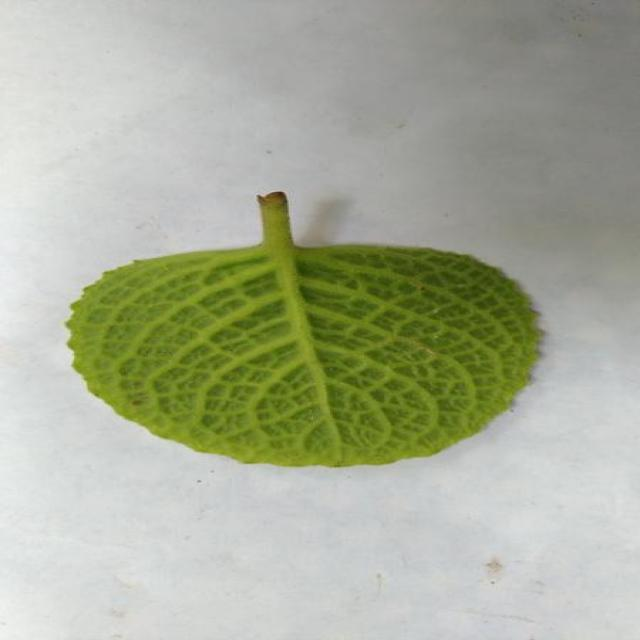doddpathre: (68, 192, 538, 466)
